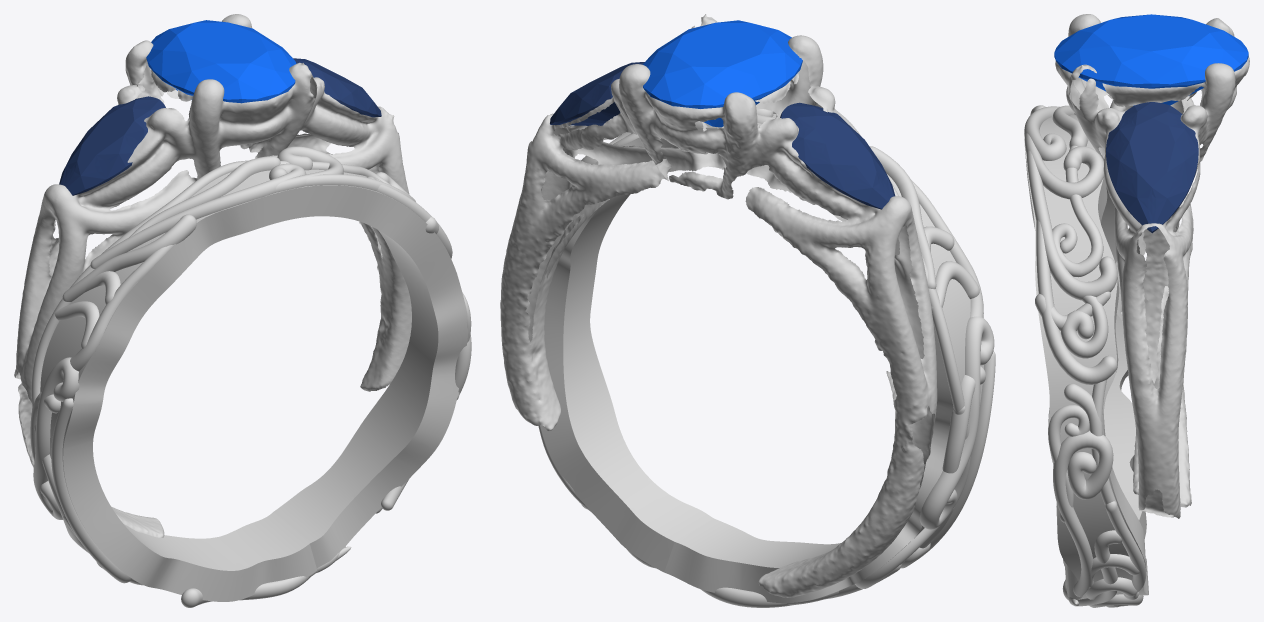
File: MadisonPTengwb_blender.glb
3 renders of one model, left to right at view 1: azimuth 30°, elevation 25°; view 2: azimuth 150°, elevation 25°; view 3: azimuth 270°, elevation 25°, orthographic. The views are drawn at different scales.
Visible parts, largest first — view 1: Madison PT for 3d model.027, Madison PT for 3d model.033, Madison sapphire for 3d model, Madison tanzanite for 3d model, Madison PT for 3d model.011, Madison PT for 3d model.013, Madison PT for 3d model.023, Madison PT for 3d model.014, Madison PT for 3d model.012, Madison PT for 3d model.010, Madison PT for 3d model.021, Madison tanzanite for 3d model.001 (+6 smaller); view 2: Madison PT for 3d model.033, Madison PT for 3d model.027, Madison sapphire for 3d model, Madison tanzanite for 3d model, Madison PT for 3d model.013, Madison tanzanite for 3d model.001, Madison PT for 3d model.014, Madison PT for 3d model.023, Madison PT for 3d model.012, Madison PT for 3d model.028, Madison PT for 3d model.018, Madison PT for 3d model.021 (+2 smaller); view 3: Madison PT for 3d model.033, Madison PT for 3d model.027, Madison sapphire for 3d model, Madison tanzanite for 3d model.001, Madison PT for 3d model.031, Madison PT for 3d model.008, Madison PT for 3d model.006, Madison PT for 3d model.023, Madison PT for 3d model.009, Madison PT for 3d model.007, Madison PT for 3d model.025, Madison PT for 3d model.011 (+9 smaller).
Part boxes in pixels (box(x1,y1,x2,y2)): Madison PT for 3d model.027: box(40, 155, 468, 601); Madison PT for 3d model.033: box(14, 14, 411, 537); Madison sapphire for 3d model: box(146, 20, 296, 103); Madison tanzanite for 3d model: box(59, 96, 165, 195); Madison PT for 3d model.011: box(90, 163, 306, 268); Madison PT for 3d model.013: box(33, 357, 79, 519); Madison PT for 3d model.023: box(31, 160, 390, 407); Madison PT for 3d model.014: box(51, 398, 131, 583); Madison PT for 3d model.012: box(62, 214, 196, 301); Madison PT for 3d model.010: box(129, 156, 280, 237); Madison PT for 3d model.021: box(70, 245, 173, 371); Madison tanzanite for 3d model.001: box(293, 58, 381, 117); Madison PT for 3d model.033: box(500, 14, 937, 597); Madison PT for 3d model.027: box(540, 114, 983, 603); Madison sapphire for 3d model: box(643, 20, 802, 127); Madison tanzanite for 3d model: box(780, 102, 895, 209); Madison PT for 3d model.013: box(919, 316, 994, 529); Madison tanzanite for 3d model.001: box(550, 62, 644, 125); Madison PT for 3d model.014: box(901, 351, 995, 568); Madison PT for 3d model.023: box(613, 123, 964, 411); Madison PT for 3d model.012: box(869, 146, 936, 289); Madison PT for 3d model.028: box(942, 366, 985, 473); Madison PT for 3d model.018: box(855, 406, 970, 588); Madison PT for 3d model.021: box(911, 180, 983, 317); Madison PT for 3d model.033: box(1055, 14, 1249, 518); Madison PT for 3d model.027: box(1024, 114, 1148, 599); Madison sapphire for 3d model: box(1054, 14, 1248, 105); Madison tanzanite for 3d model.001: box(1106, 102, 1198, 233); Madison PT for 3d model.031: box(1053, 430, 1113, 596); Madison PT for 3d model.008: box(1026, 150, 1117, 300); Madison PT for 3d model.006: box(1036, 220, 1117, 384); Madison PT for 3d model.023: box(1052, 113, 1103, 277); Madison PT for 3d model.009: box(1024, 133, 1104, 199); Madison PT for 3d model.007: box(1061, 295, 1108, 358); Madison PT for 3d model.025: box(1048, 405, 1089, 522); Madison PT for 3d model.011: box(1024, 106, 1066, 160).
Bounding box in the file's own units: 21.03 × 25.37 × 9.37.
